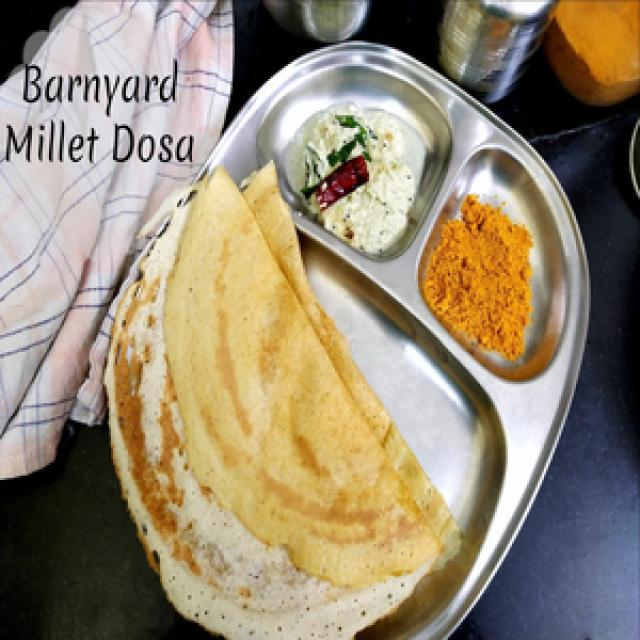dosa: (98, 163, 466, 640)
